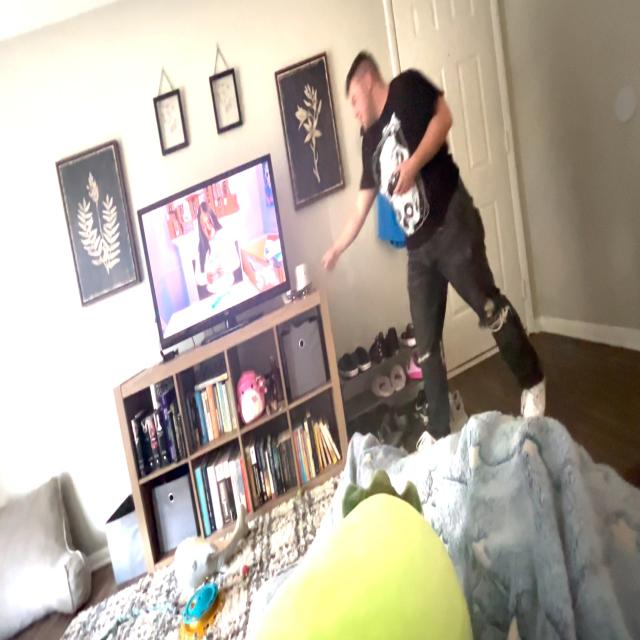drone: (278, 279, 322, 306)
